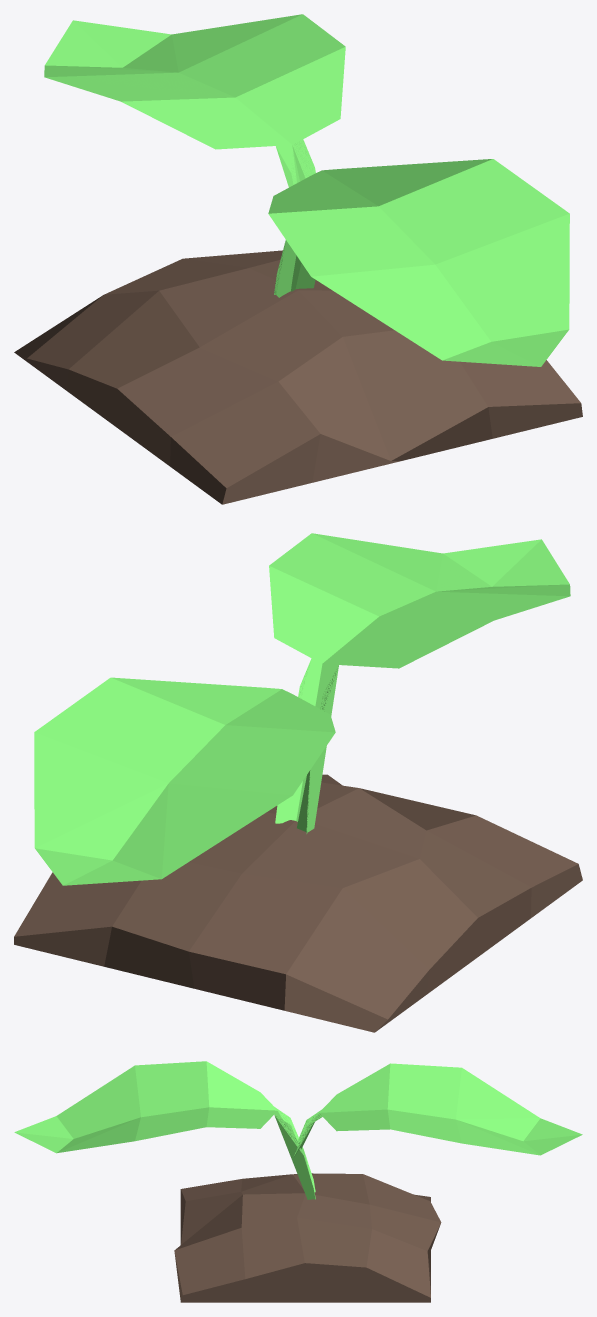
File: 3dplant1.glb
The picture shows the model from 3 angles, top to bottom: view 1: azimuth 30°, elevation 25°; view 2: azimuth 150°, elevation 25°; view 3: azimuth 270°, elevation 25°; orthographic projection. The views are drawn at different scales.
Visible parts, largest first — view 1: Cube, Leaf1, Leaf1.001; view 2: Cube, Leaf1.001, Leaf1; view 3: Cube, Leaf1, Leaf1.001.
Part boxes in pixels (<box>): Cube: <box>14,250,582,504</box>; Leaf1: <box>268,159,569,366</box>; Leaf1.001: <box>44,14,345,187</box>; Cube: <box>14,774,582,1032</box>; Leaf1.001: <box>34,677,335,885</box>; Leaf1: <box>269,533,570,833</box>; Cube: <box>174,1173,441,1302</box>; Leaf1: <box>14,1061,315,1199</box>; Leaf1.001: <box>293,1063,582,1157</box>.
Size of the model in its own units: 1.95 by 1.34 by 4.43.
